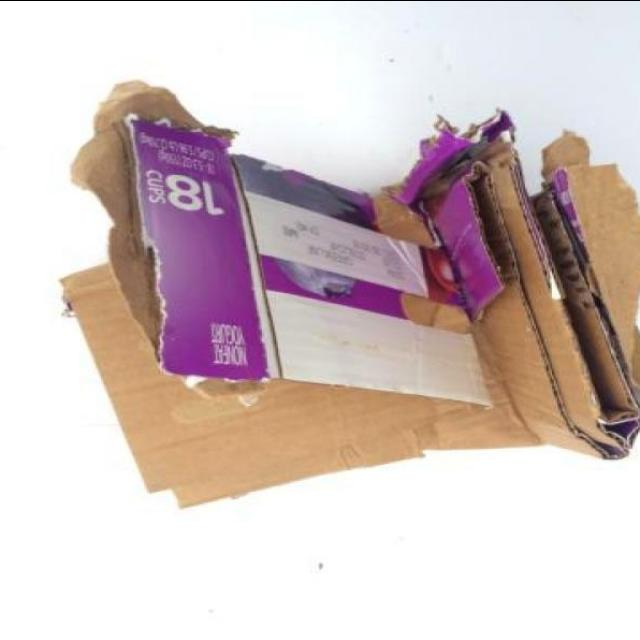cardboard paper: (62, 83, 640, 507)
